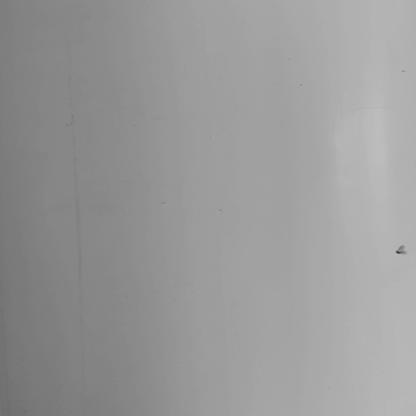kongdong: (393, 239, 416, 264)
